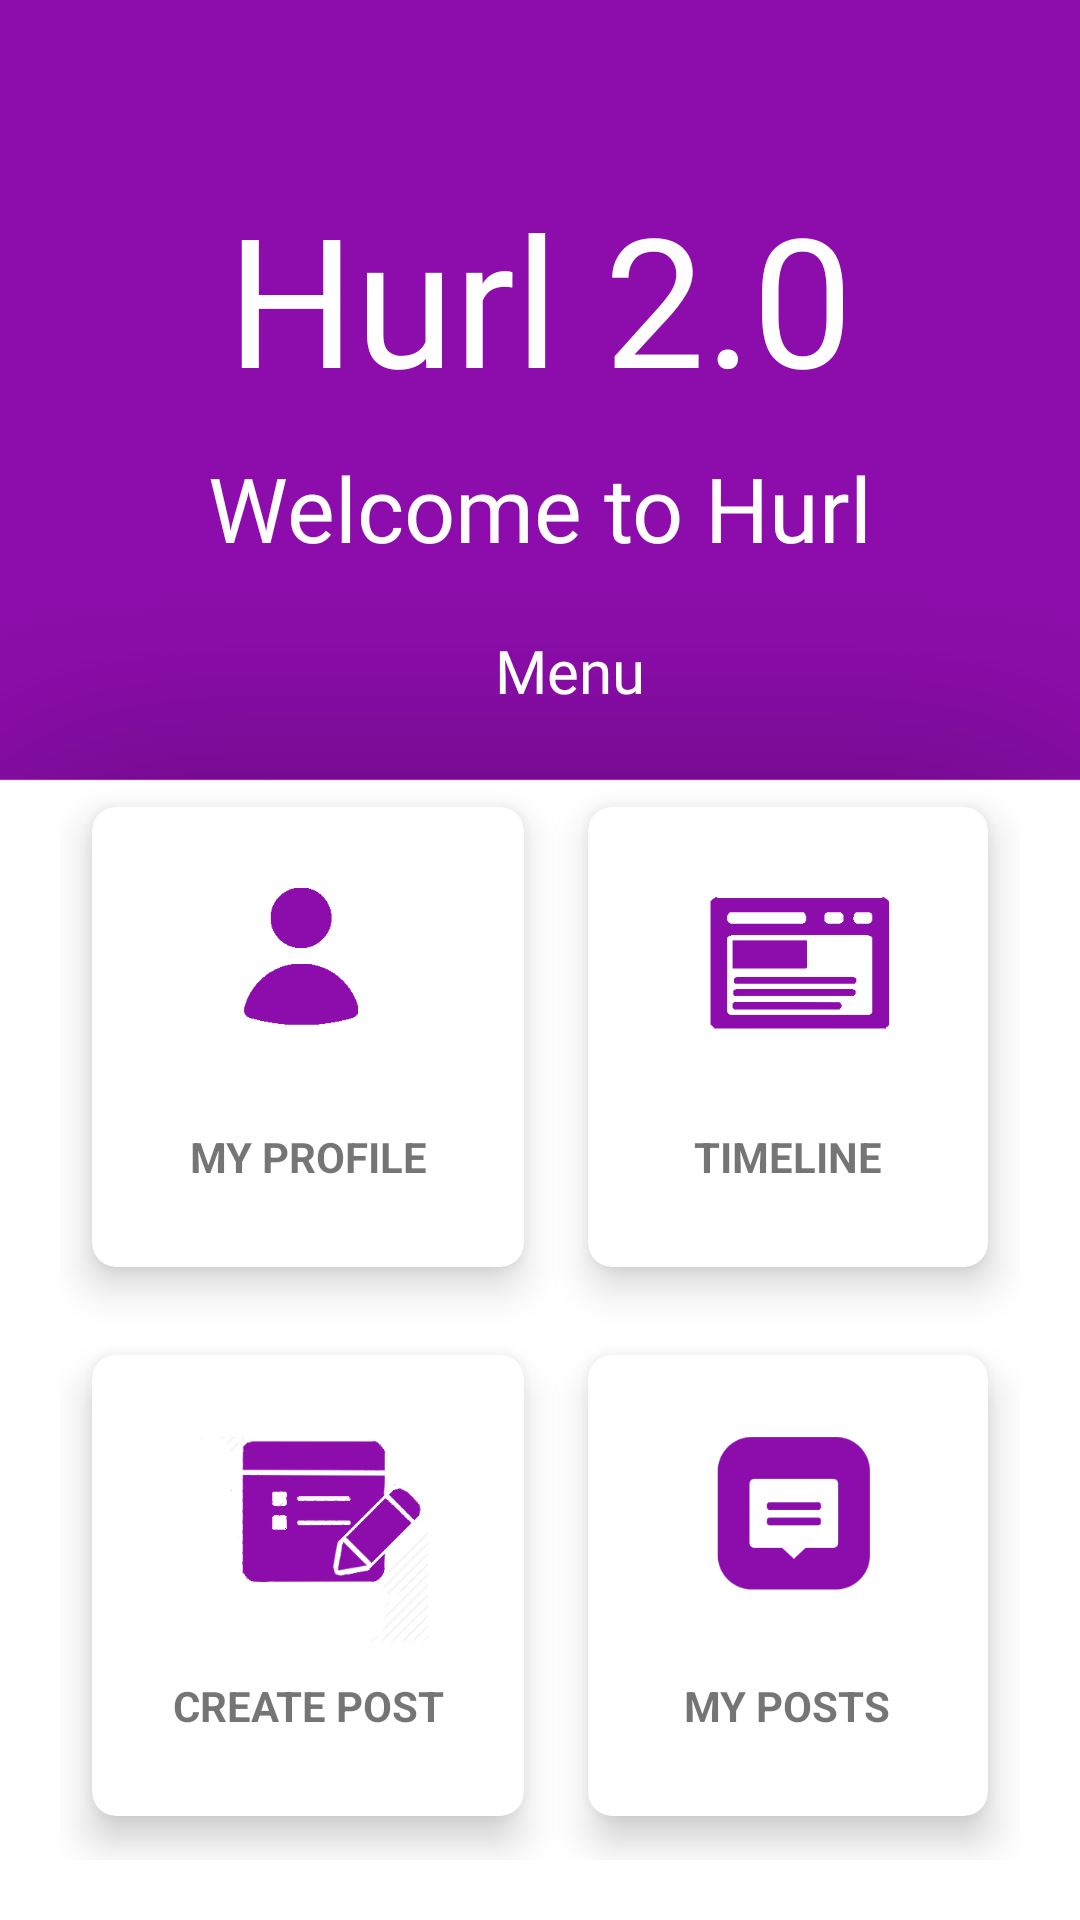

Screen size 1080px×1920px. Icon name, then its box in pixels as (x1, y1, x2, y2):
profileicon: (244, 888, 358, 1025)
